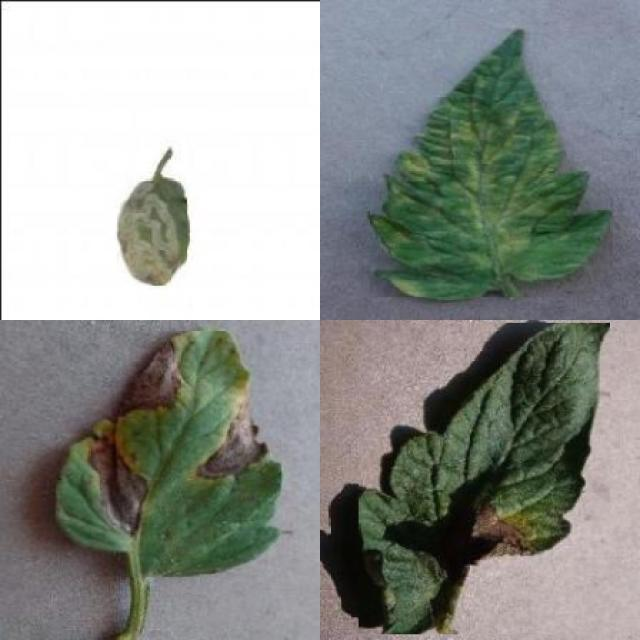Early Blight: (56, 330, 281, 577)
Late Blight: (359, 323, 611, 634)
Leaf Miner: (116, 175, 188, 285)
Leaf Mold: (370, 28, 613, 298)
